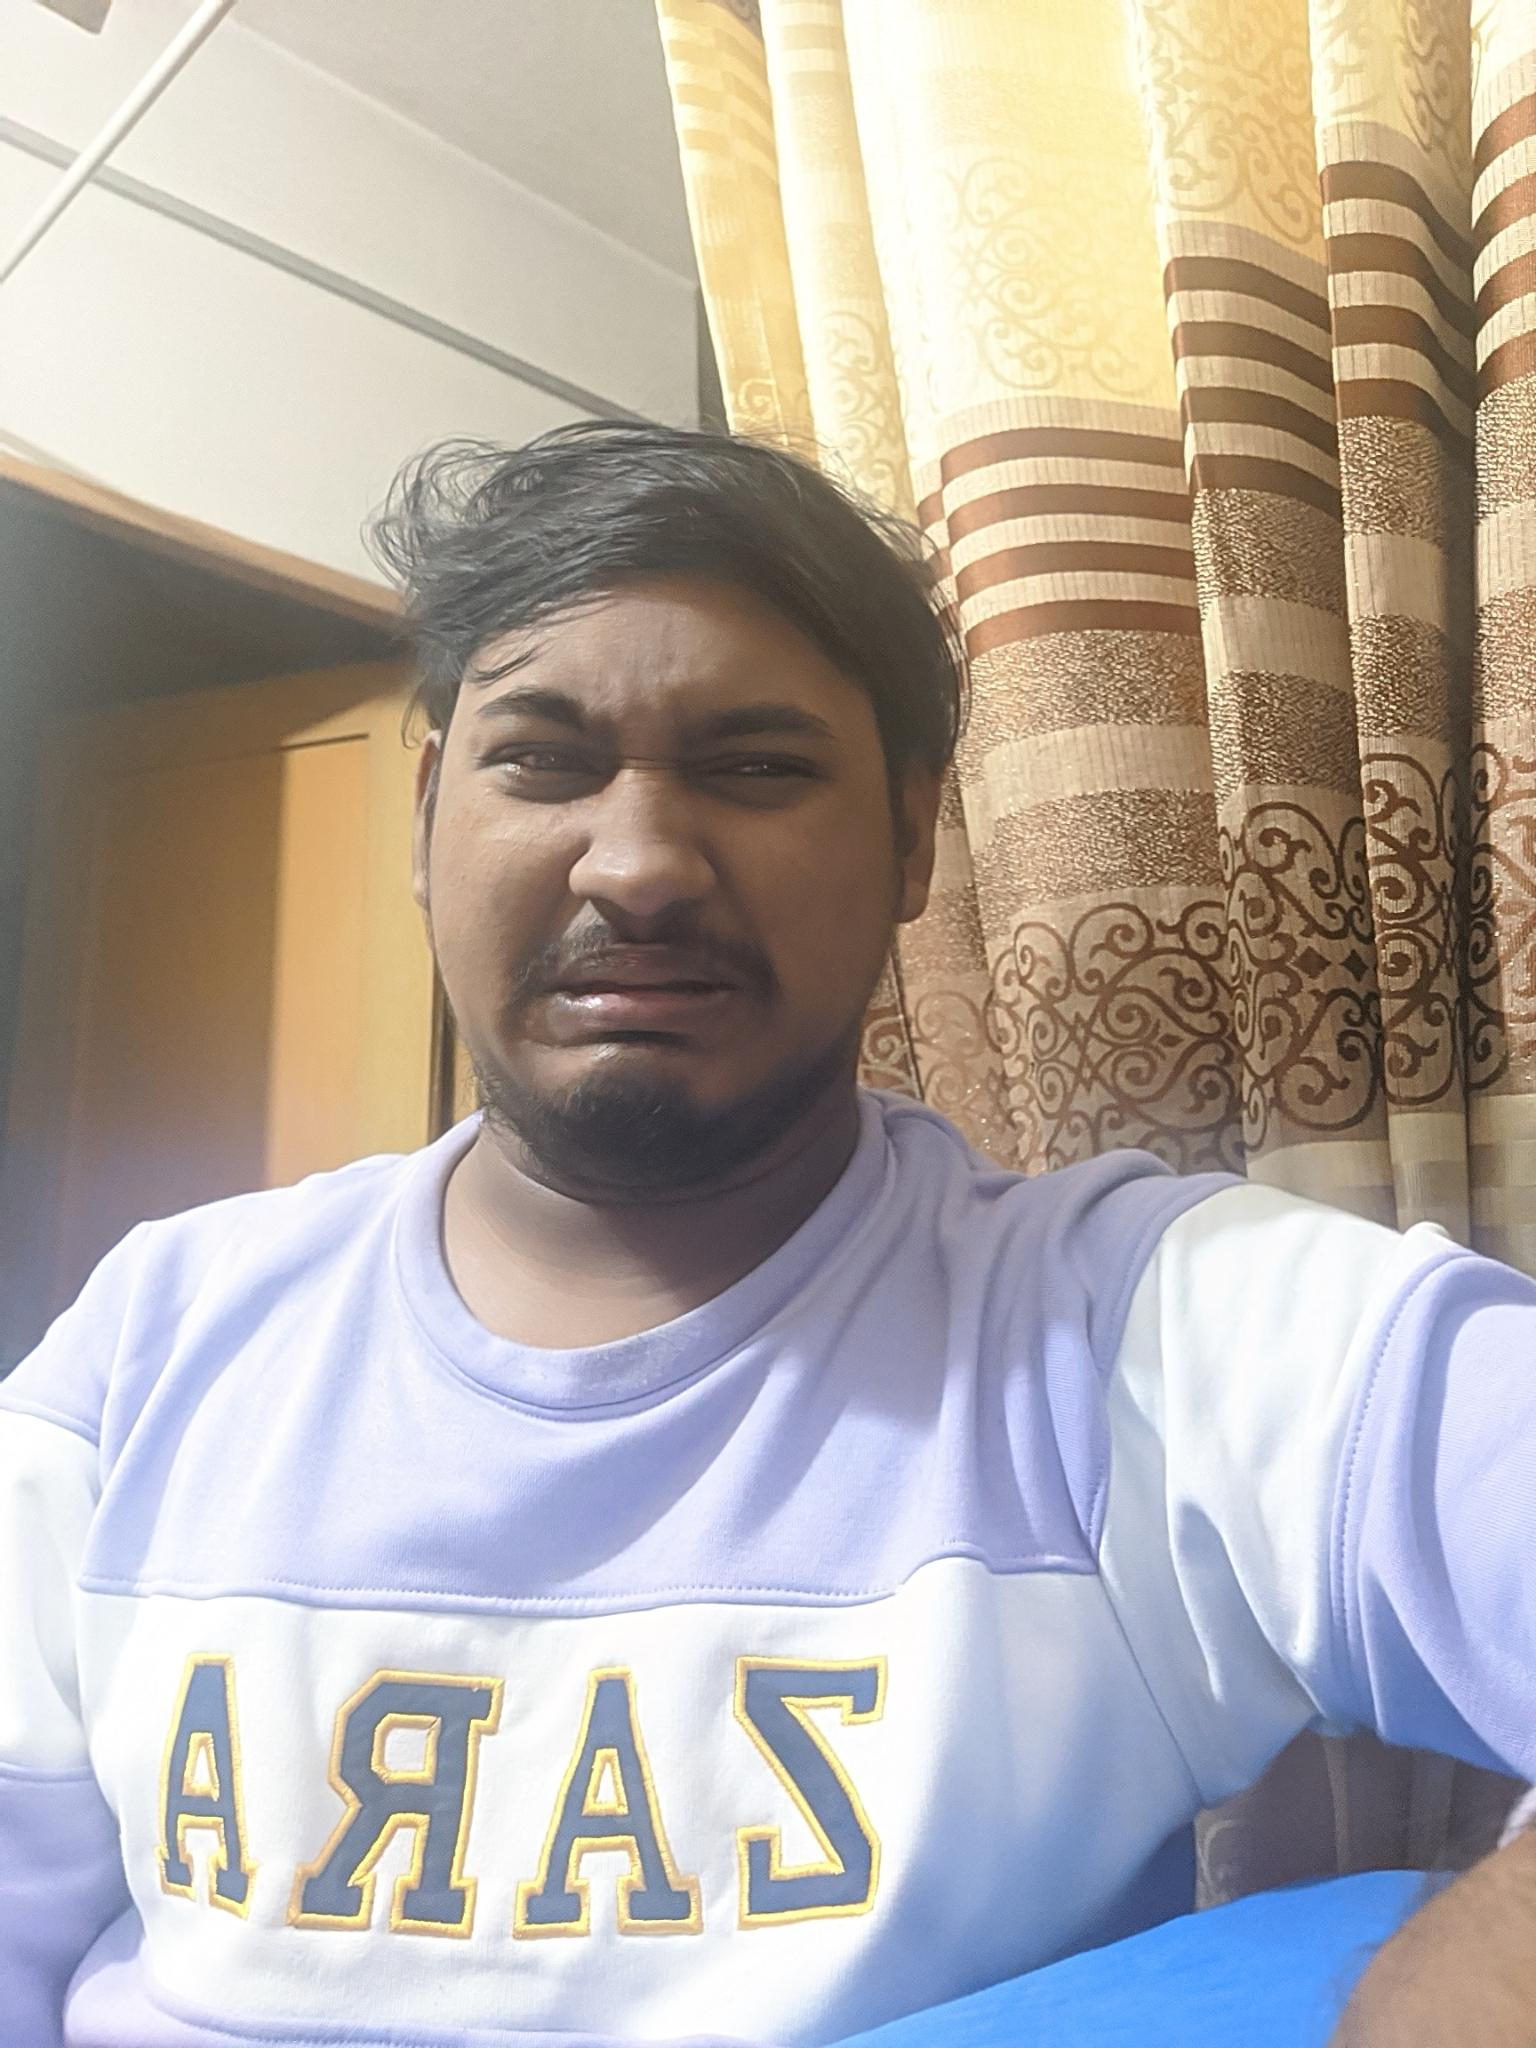Disgust: (437, 614, 866, 1163)
